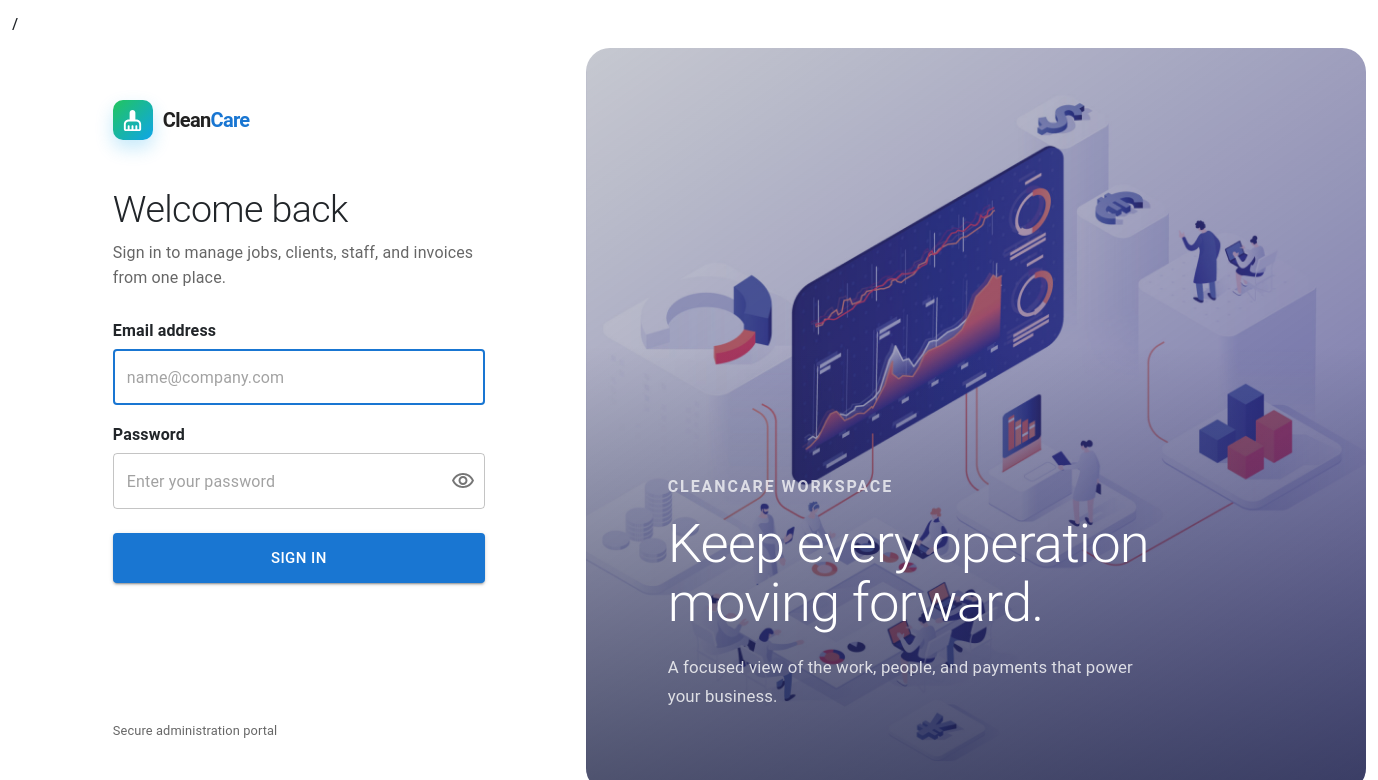
Test: normal login explains that pending accounts must use their invitation
Type "staff@example.com" into the field labelled "Email address".
click(299, 377); type("staff@example.com")  # box [113,349,485,405]
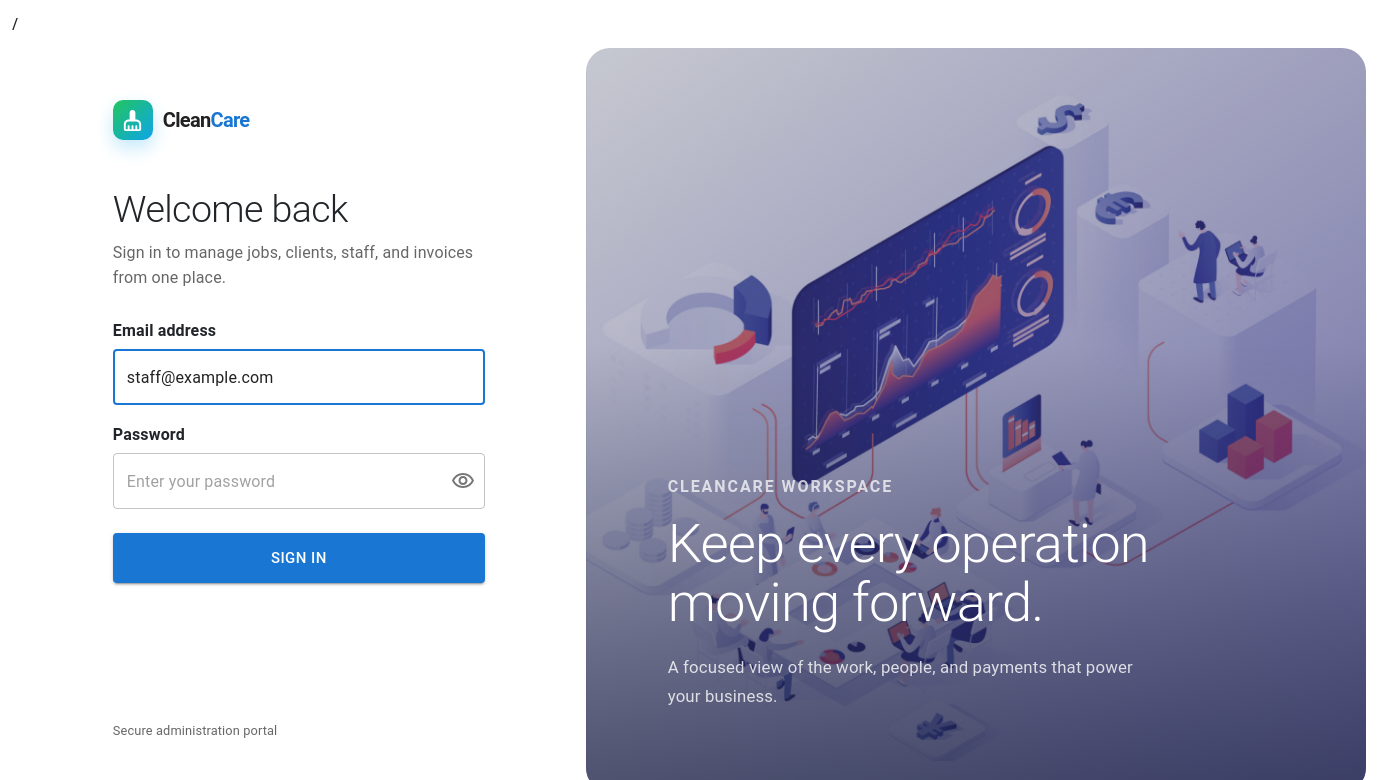
Type "Admin-added-temp-123" into the password field labelled "Password".
click(274, 481); type("Admin-added-temp-123")  # box [113,453,435,509]
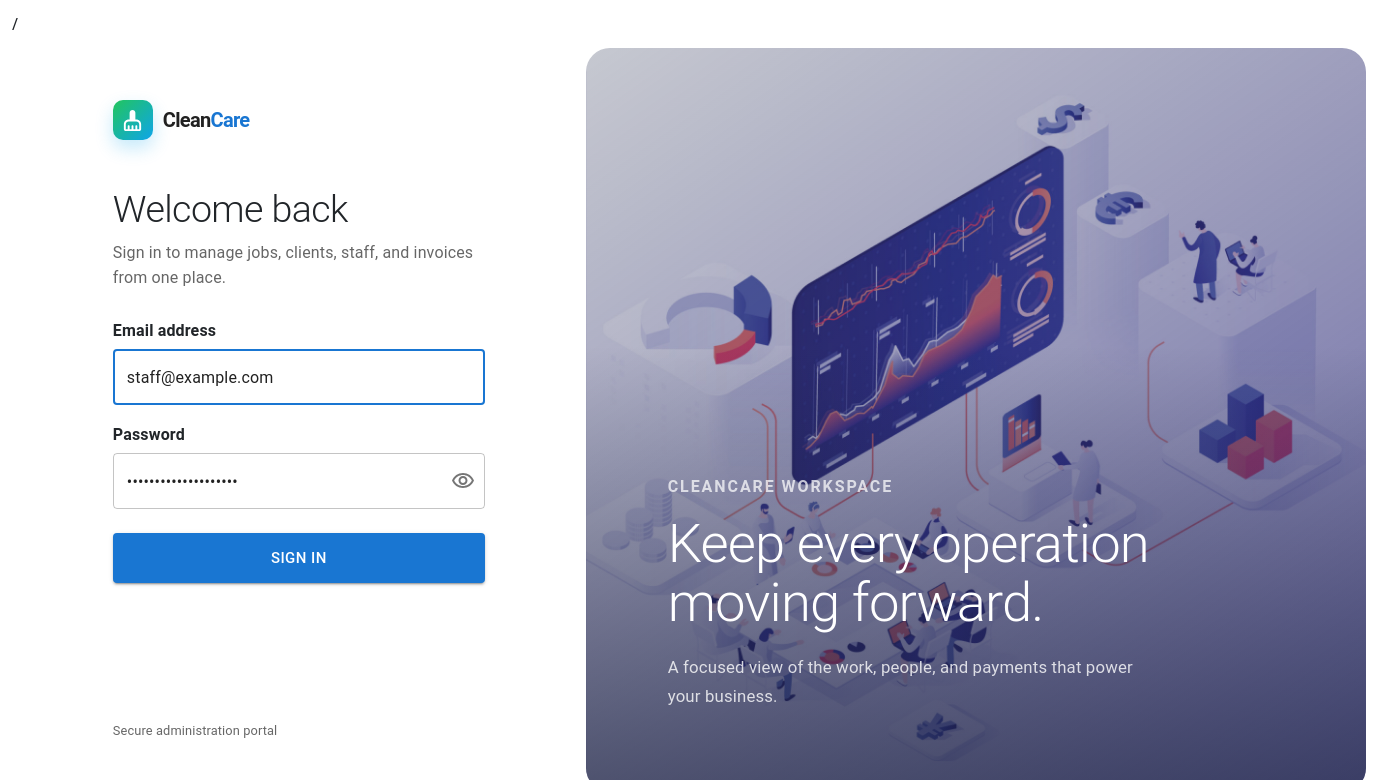
Click the button "Sign in".
click(299, 558)  # box [113,533,485,583]
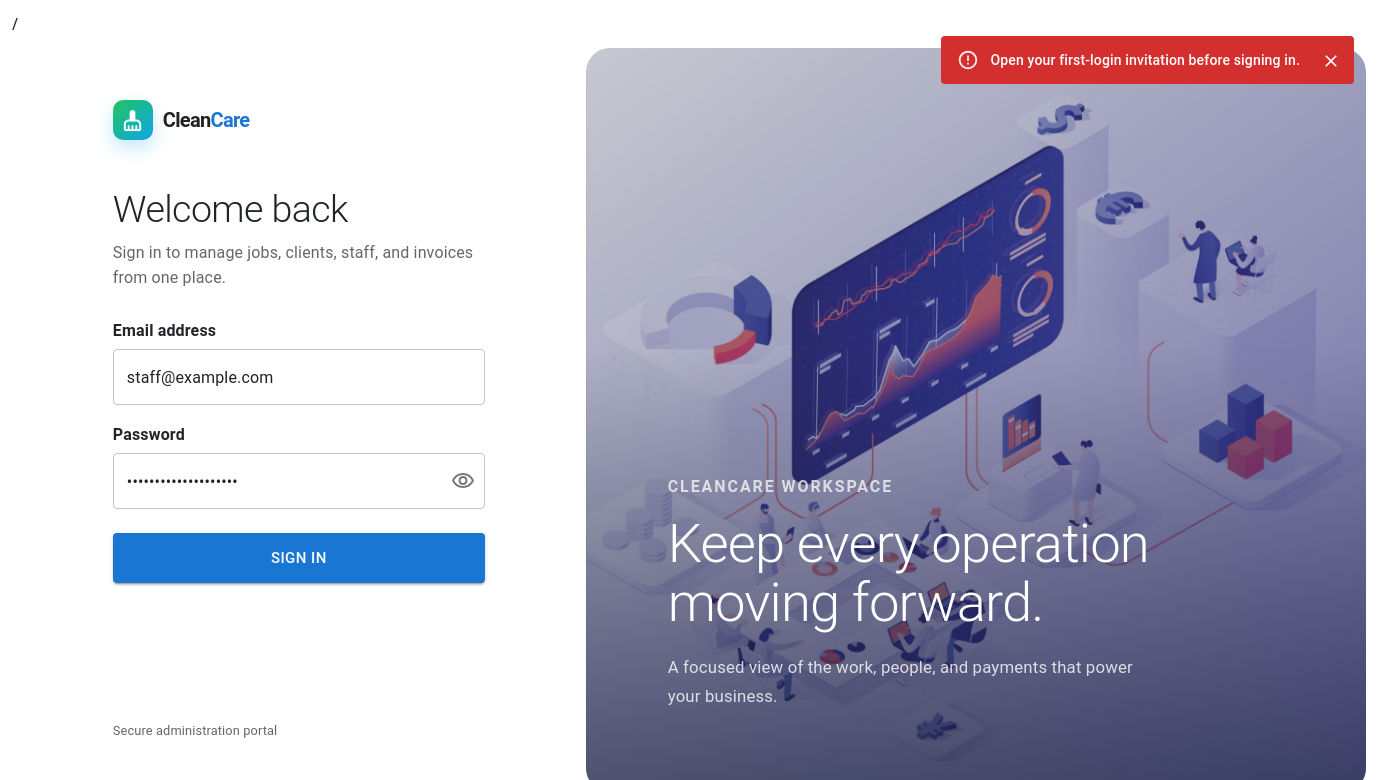
Expected: the text "Open your first-login invitation before signing in." is shown, [990,52,1300,68]
